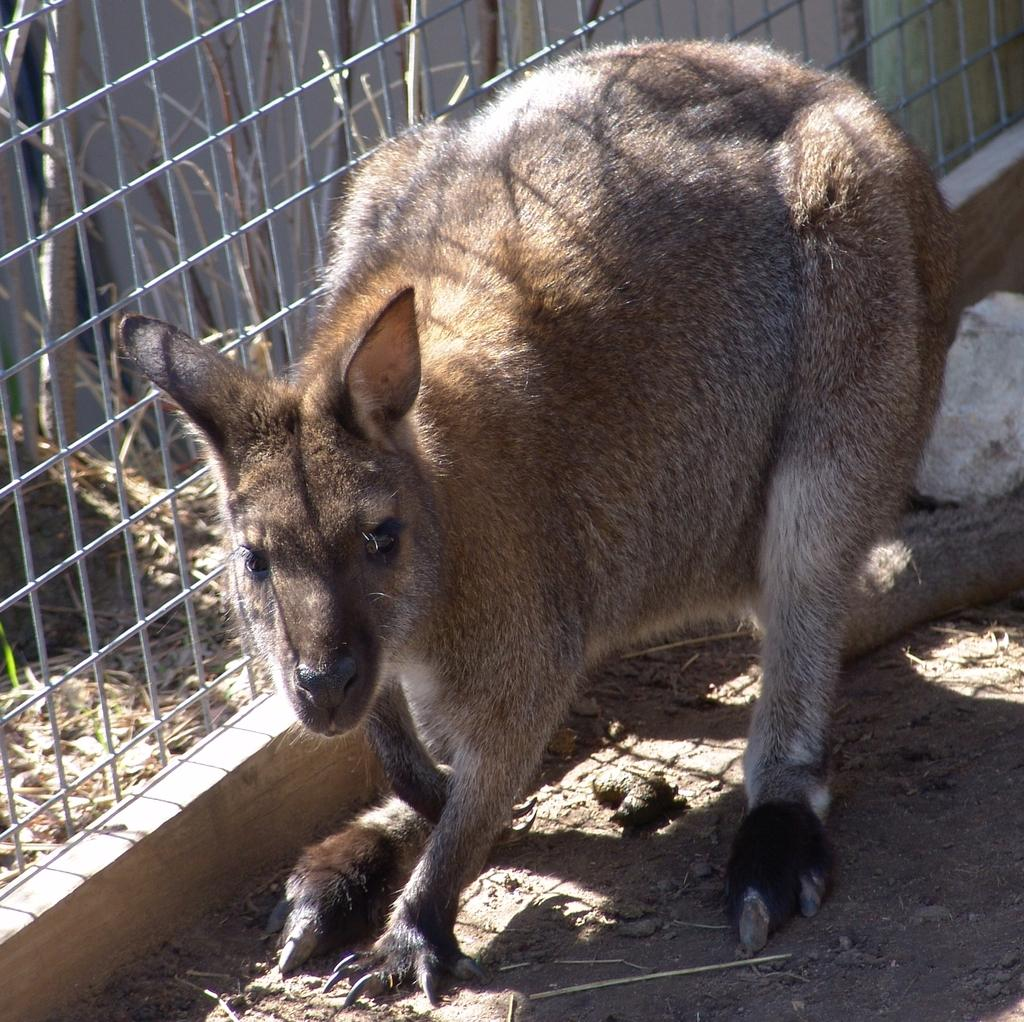kangaroo: (112, 35, 964, 1010)
